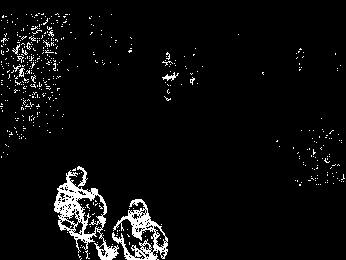person: (50, 163, 115, 260), (111, 195, 169, 260)
